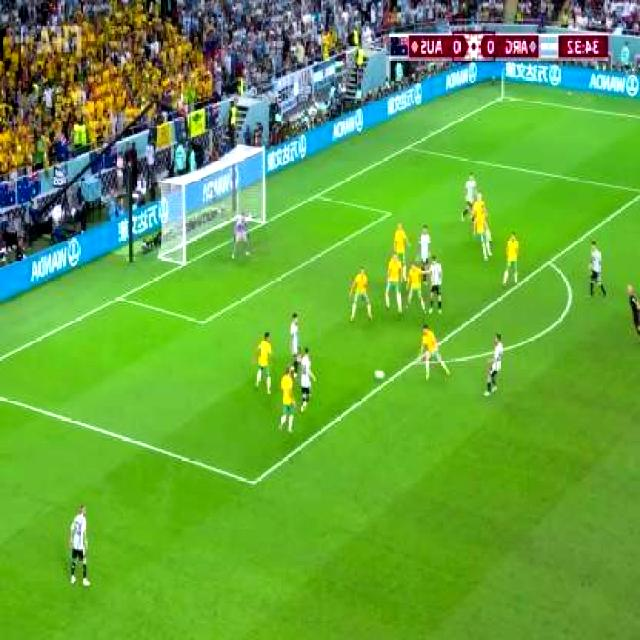bigarea_bottom_inner: (243, 468, 265, 498)
bigarea_top_outter: (400, 142, 414, 156)
bottom_arc_area_intersection: (409, 352, 422, 374)
corner: (498, 91, 508, 103)
smallarea_bottom_inner: (194, 309, 212, 337)
smallarea_bottom_outter: (114, 288, 126, 308)
smallarea_top_inner: (381, 203, 397, 226)
smallarea_top_outter: (311, 186, 323, 206)
top_arc_area_intersection: (542, 252, 556, 272)
